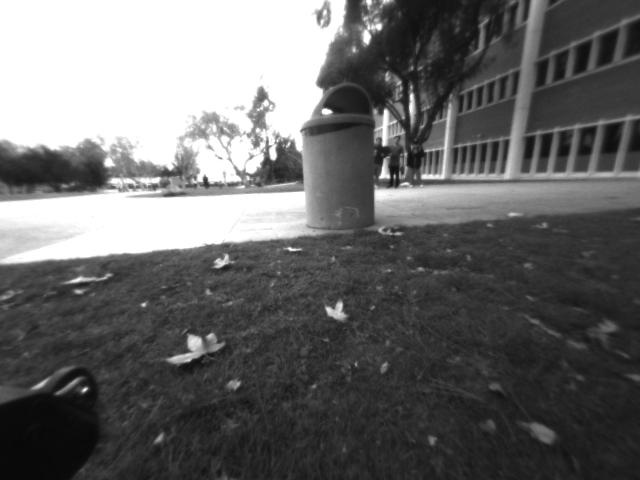trashcan: (297, 76, 388, 241)
